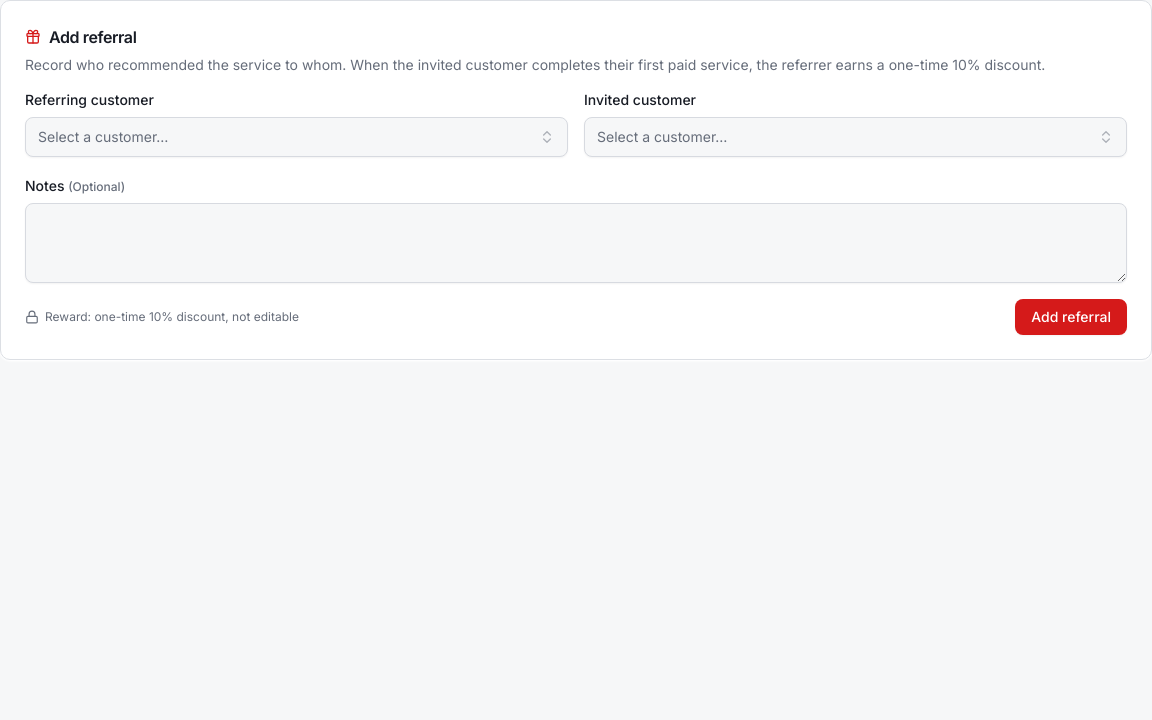
Scenario: Add referral form › blocks selecting the same customer as referrer and invited
// pick Aram as the referrer
Click the dropdown named "referring customer".
click(103, 136)  # box [25,117,568,157]
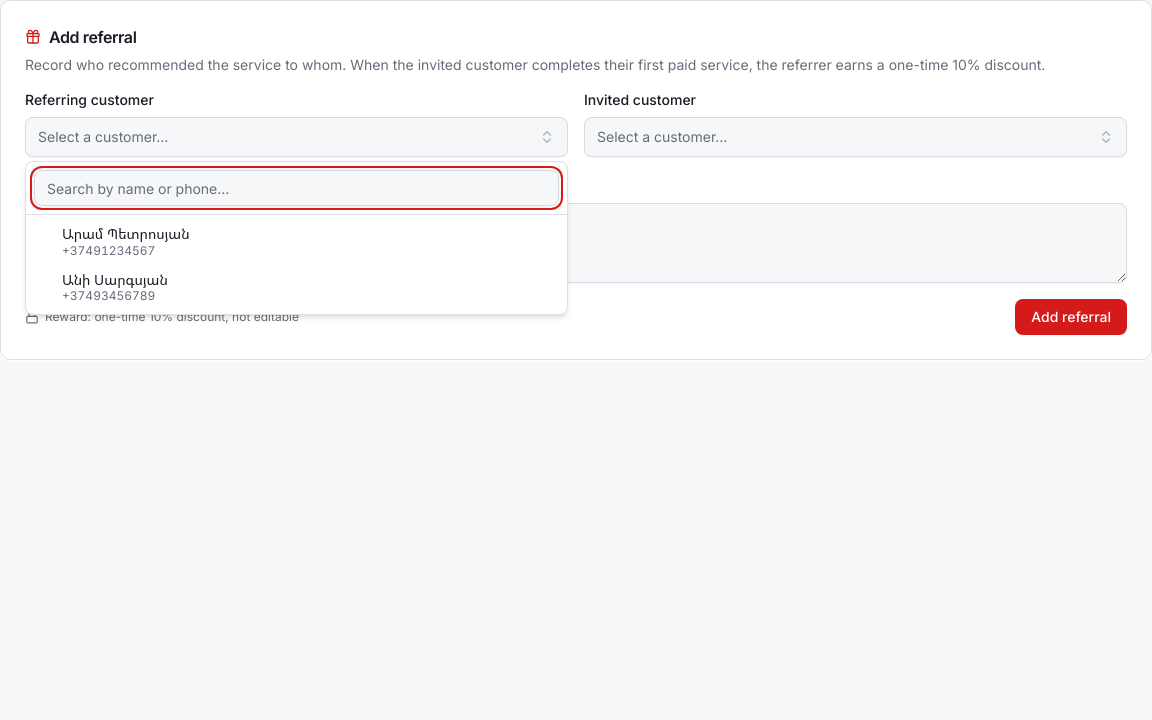
Click the option "Արամ Պետրոսյան +37491234567".
click(126, 234)  # box [30,219,563,264]
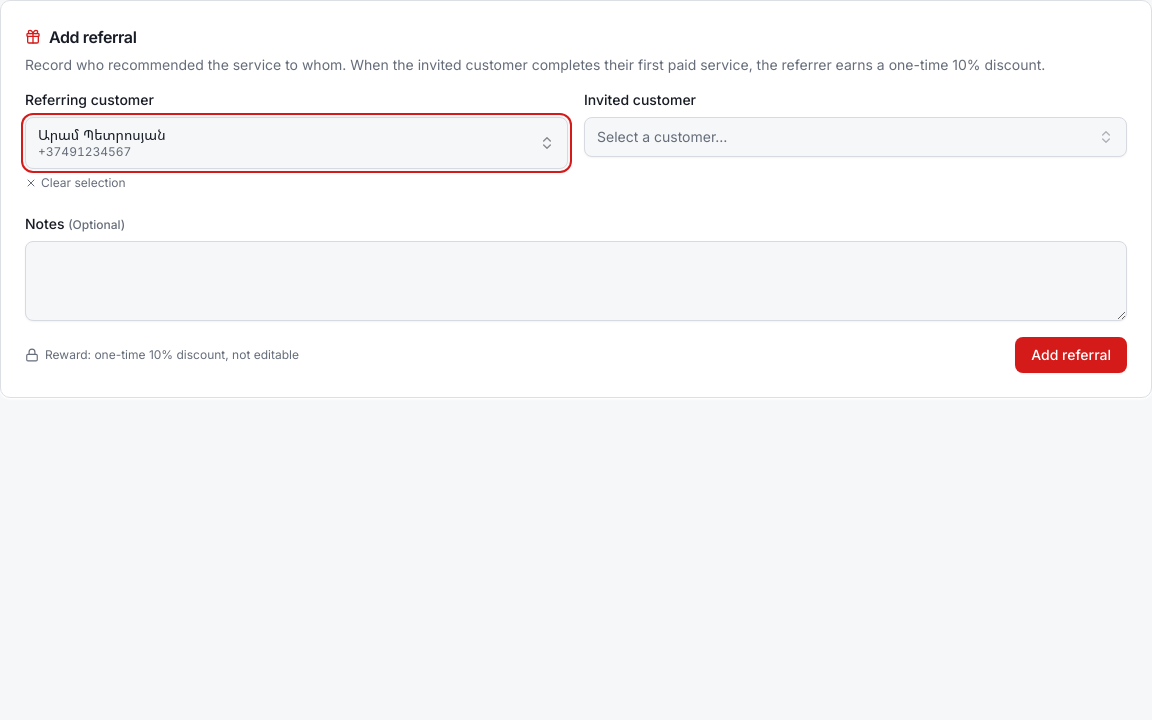
// the invited picker must not offer Aram any more
Click the dropdown named "invited customer".
click(662, 136)  # box [584,117,1127,157]
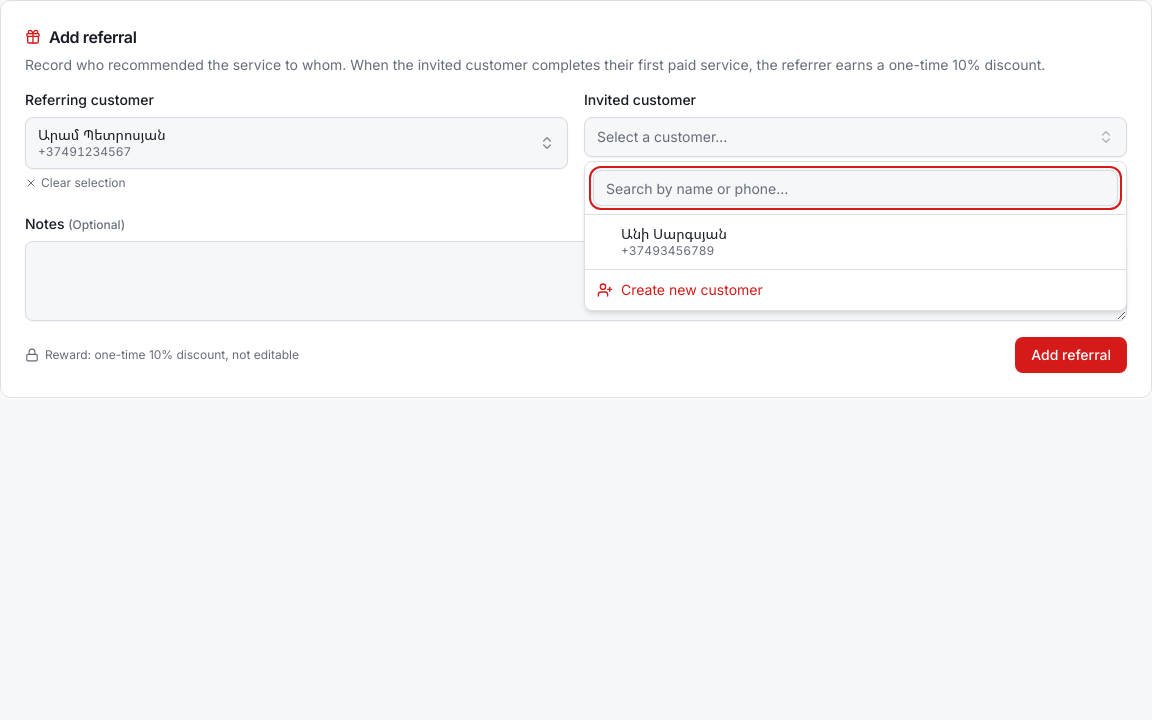
Expected: the number of options is 1, [589,219,1122,264]
Press Escape
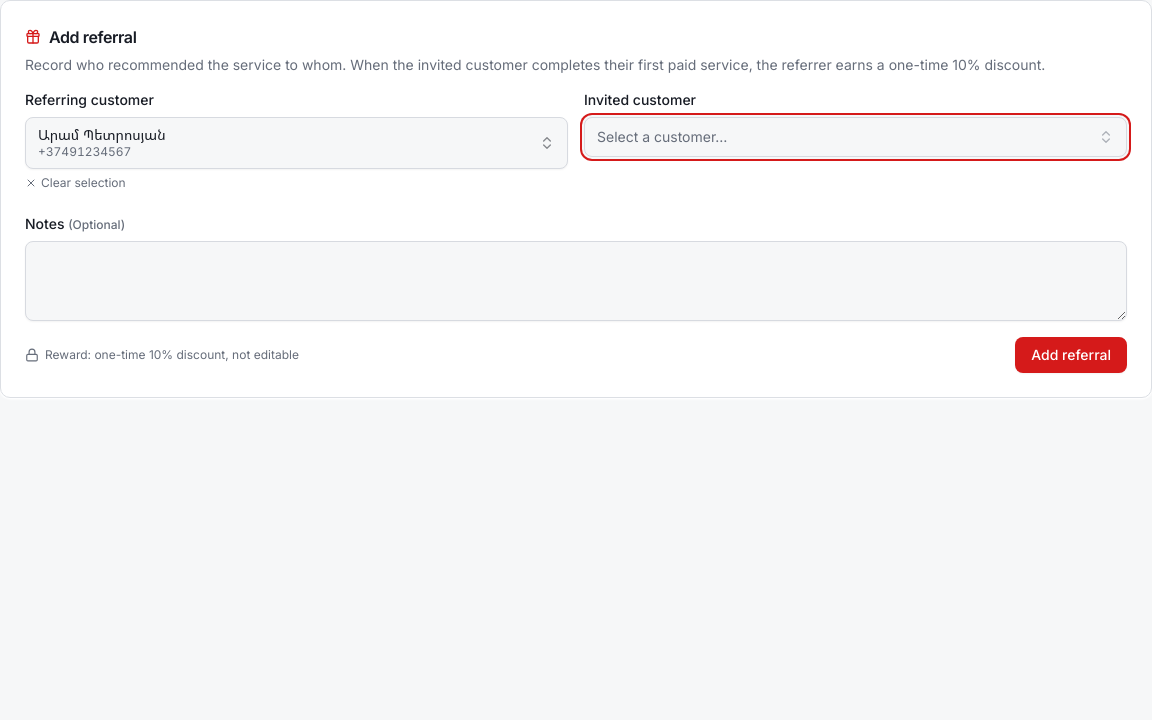
// submitting without an invited customer does not call the API
Click the button "Add referral".
click(1071, 354)  # box [1015,336,1127,372]
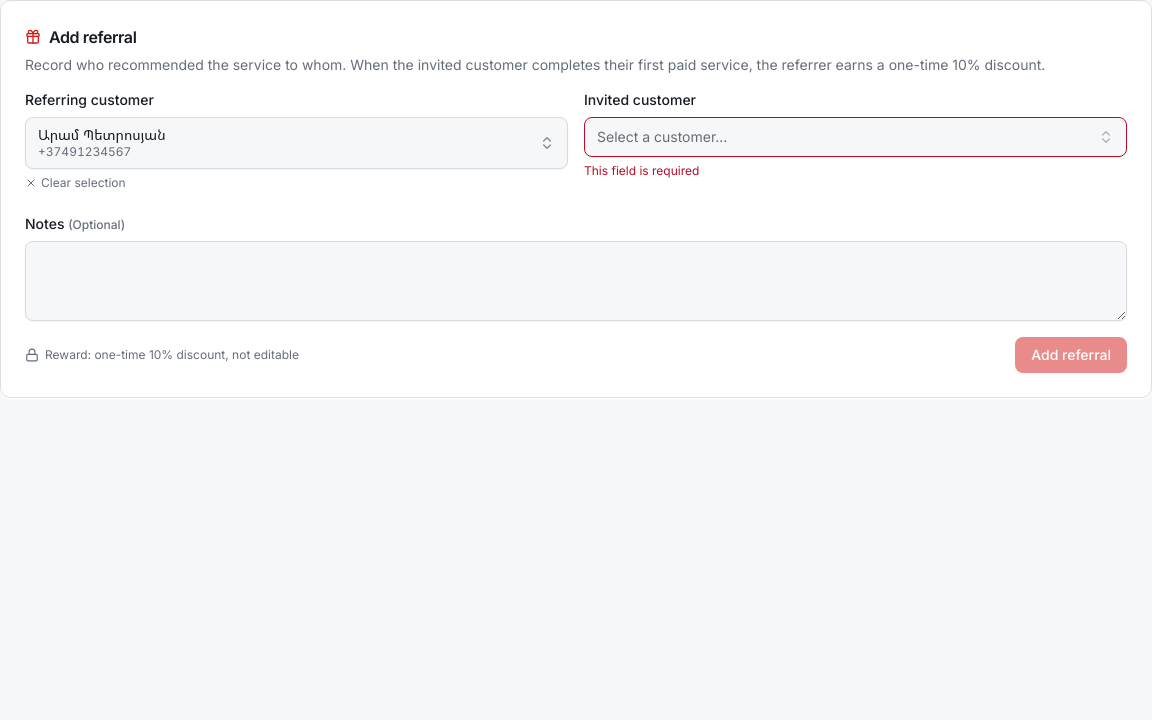
Expected: the text "This field is required" is shown, [584,163,699,178]
